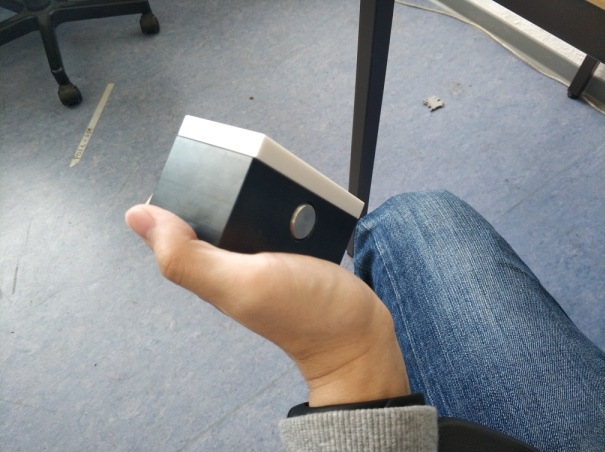white+black+silver: (146, 112, 368, 270)
